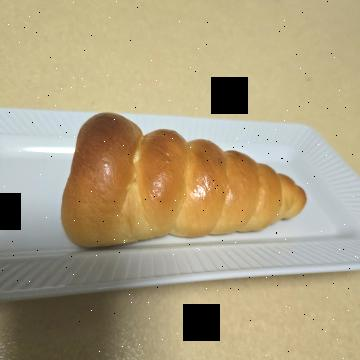cream horn: (90, 37, 282, 329)
